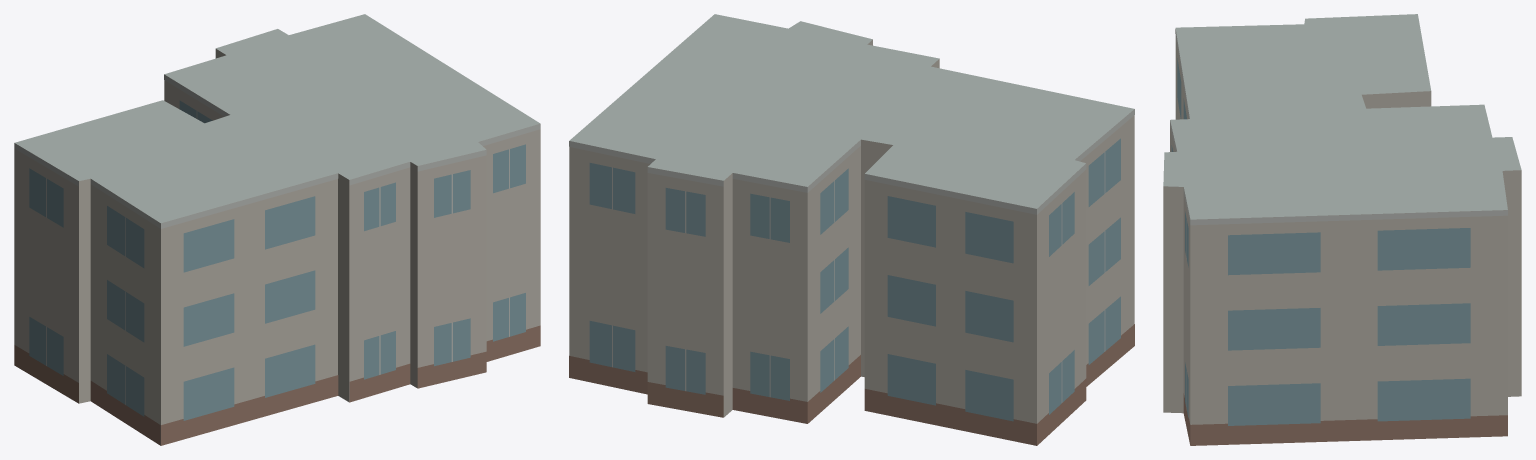
The model's file is survey-upis-32624517.glb.
3 views of the same model, side by side, from view 1: azimuth 30°, elevation 25°; view 2: azimuth 150°, elevation 25°; view 3: azimuth 270°, elevation 25° (orthographic). The views are drawn at different scales.
Visible parts, largest first — view 1: survey-upis-32624517.tmp; view 2: survey-upis-32624517.tmp; view 3: survey-upis-32624517.tmp.
Part boxes in pixels (x1,y1,x2,y2): survey-upis-32624517.tmp: (14, 14, 540, 445); survey-upis-32624517.tmp: (569, 14, 1134, 445); survey-upis-32624517.tmp: (1163, 14, 1521, 445).
Size of the model in its own units: 18.92 by 9.7 by 13.93.
